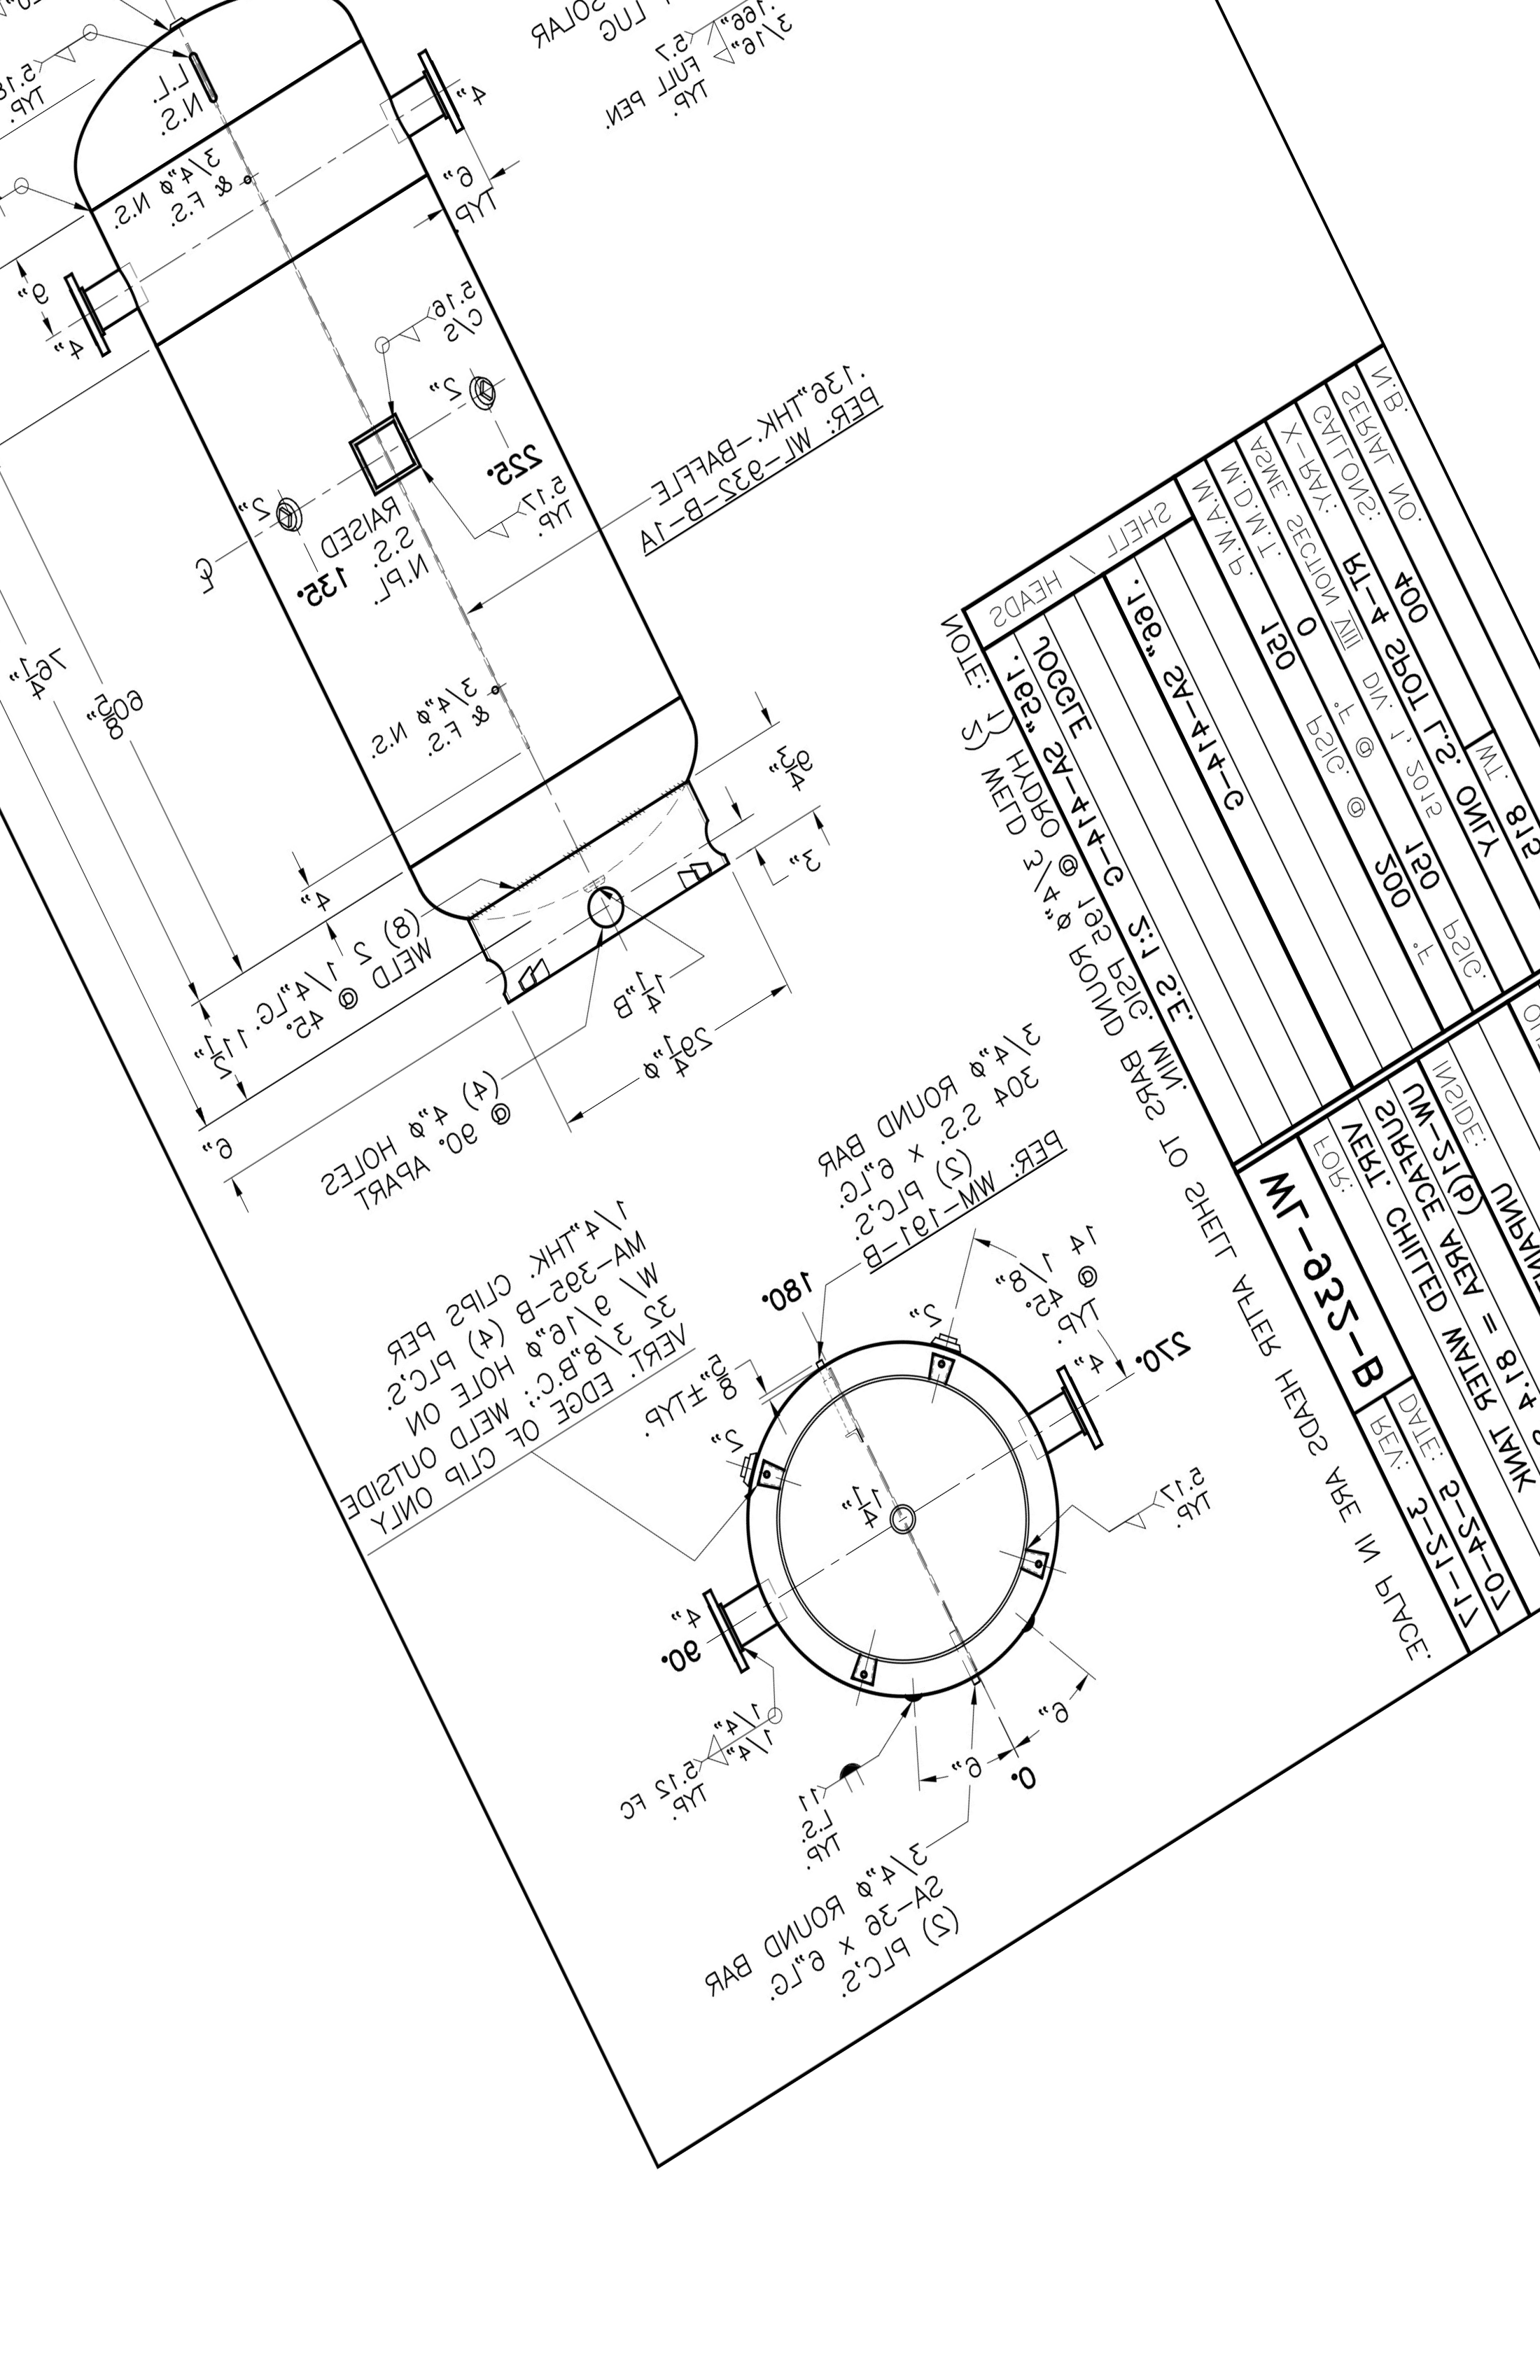Nozzle: (647, 1559, 831, 1679), (33, 217, 168, 373), (349, 43, 513, 160), (1002, 1374, 1162, 1487)
